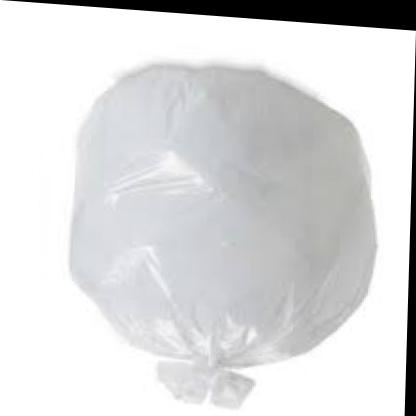trash: (71, 64, 375, 406)
